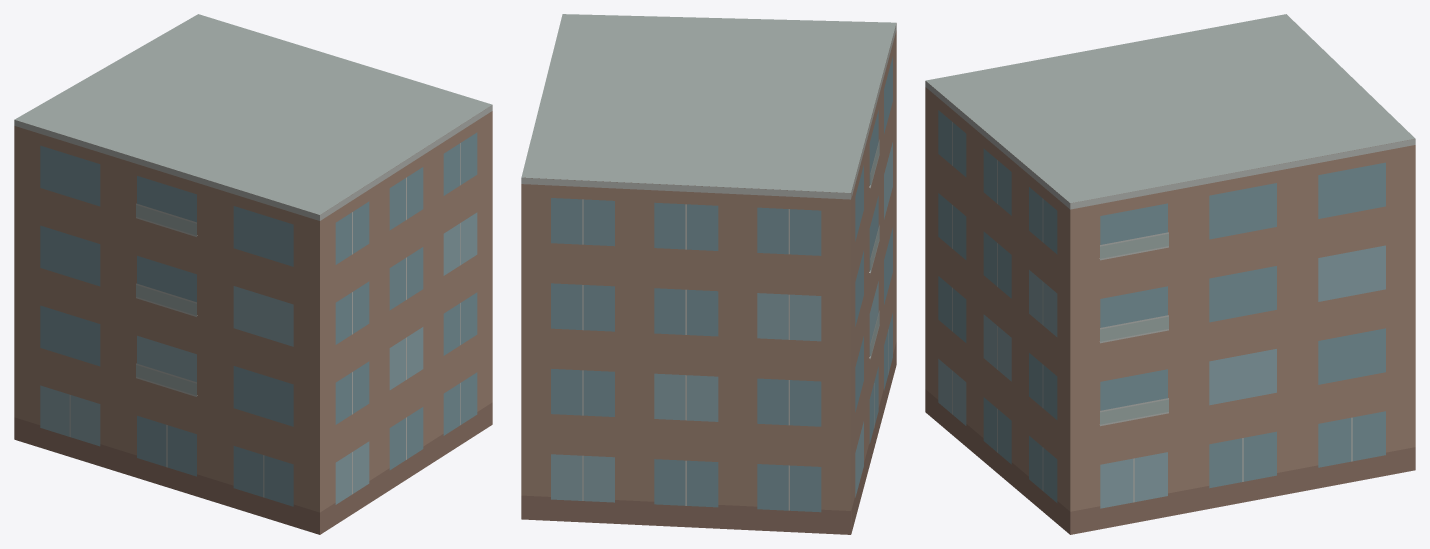
Rendered from survey-upis-32735376.glb.
3 renders of one model, left to right at view 1: azimuth 30°, elevation 25°; view 2: azimuth 150°, elevation 25°; view 3: azimuth 270°, elevation 25°, orthographic. The views are drawn at different scales.
Parts seen in each view (by area): view 1: survey-upis-32735376.tmp; view 2: survey-upis-32735376.tmp; view 3: survey-upis-32735376.tmp.
Boxes of the visible parts, x1,y1,x2,y2 form: survey-upis-32735376.tmp: (14, 14, 492, 534); survey-upis-32735376.tmp: (521, 14, 896, 534); survey-upis-32735376.tmp: (925, 14, 1415, 534).
Bounding box in the file's own units: 15.8 × 12.9 × 17.29.
